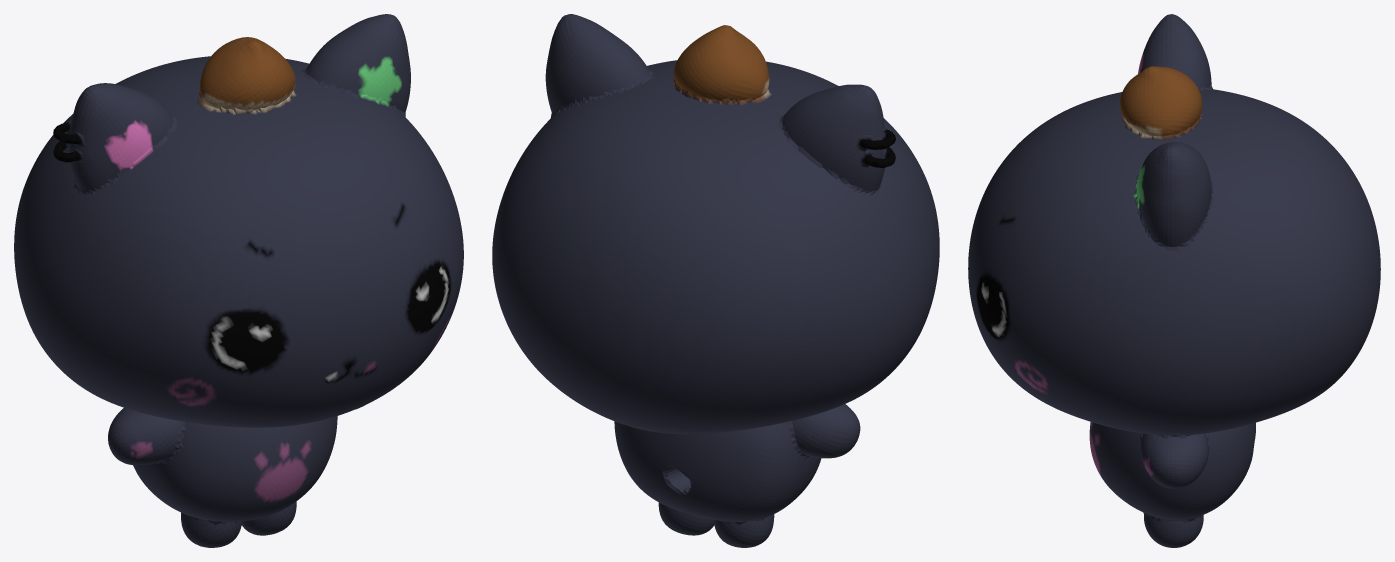
File: kuri.glb
3 renders of one model, left to right at view 1: azimuth 30°, elevation 25°; view 2: azimuth 150°, elevation 25°; view 3: azimuth 270°, elevation 25°, orthographic. The views are drawn at different scales.
Parts seen in each view (by area): view 1: 귀 2; view 2: 귀 2; view 3: 귀 2.
Part boxes in pixels (box(x1,y1,x2,y2)): 귀 2: box(14, 14, 463, 547); 귀 2: box(492, 14, 939, 547); 귀 2: box(968, 14, 1380, 547).
Size of the model in its own units: 0.8428 by 1.05 by 0.839.
